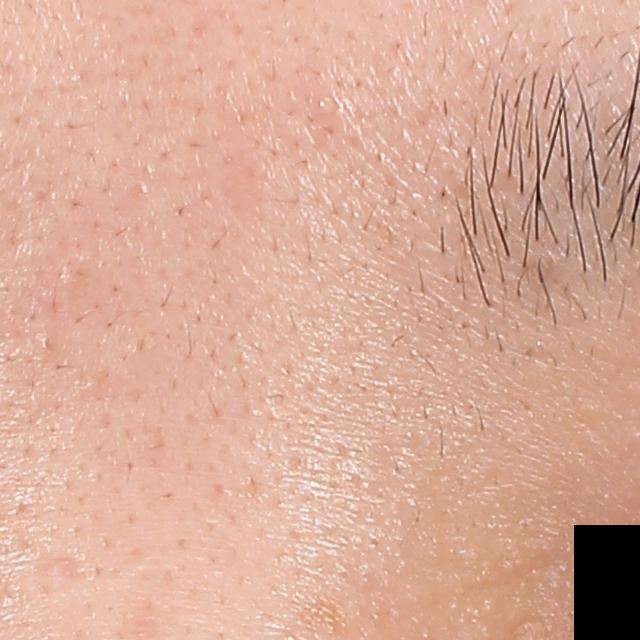atrophic_scar: (34, 551, 98, 602)
melasma: (297, 592, 352, 635)
